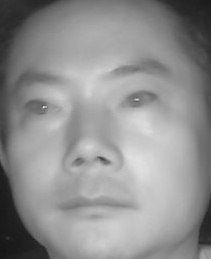eye: (22, 95, 61, 119), (118, 87, 157, 111)
mouth: (59, 186, 136, 223)
